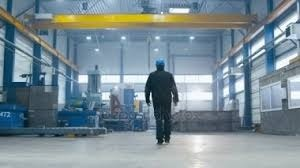helmet: (154, 57, 166, 66)
person with partial safety: (144, 55, 180, 143)
